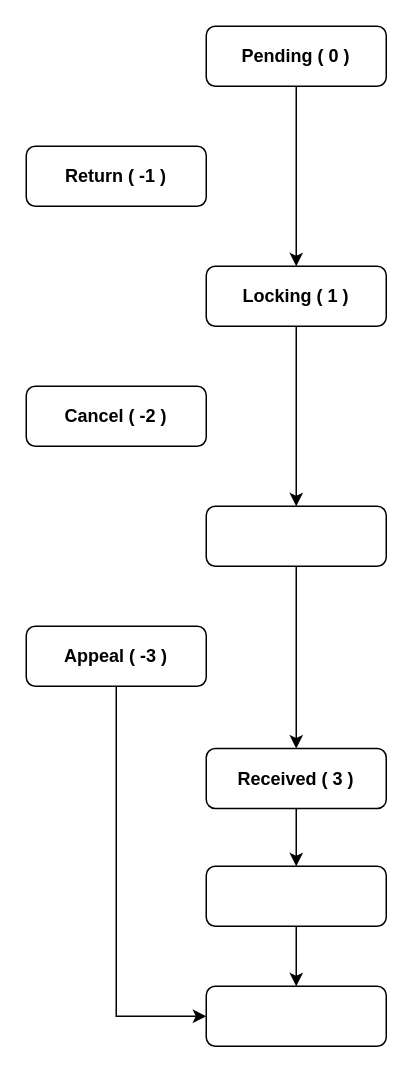
Image size: 413x1073. Some labels were removed from this diagram. The box of each missing label's shape, as (x1, y1, x2, y2) in pixels:
Collected ( 4 ): (205, 865, 386, 926)
Finished ( 5 ): (205, 985, 386, 1046)
Shipping ( 2 ): (205, 505, 386, 566)
